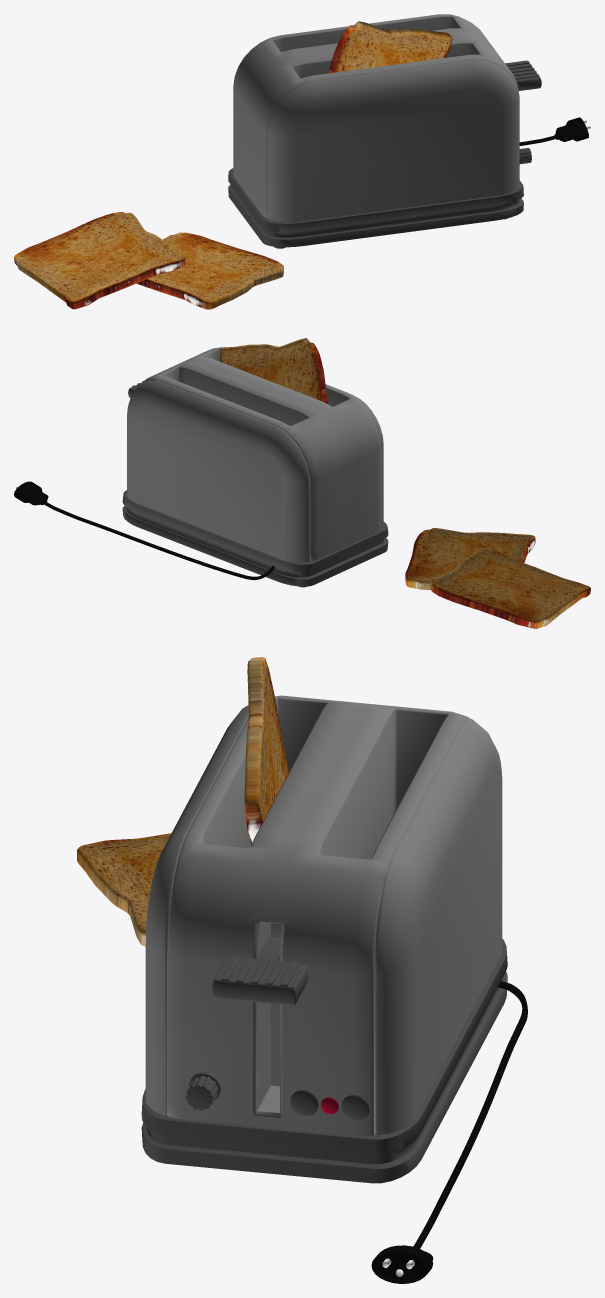
File: mytoaster.gltf
3 renders of one model, top to bottom at view 1: azimuth 30°, elevation 25°; view 2: azimuth 150°, elevation 25°; view 3: azimuth 270°, elevation 25°, orthographic. The views are drawn at different scales.
Visible parts, largest first — view 1: 8.0.201.0; view 2: 8.0.201.0; view 3: 8.0.201.0.
Part boxes in pixels (left/top/right/bottom): 8.0.201.0: left=14, top=14, right=590, bottom=309; 8.0.201.0: left=14, top=338, right=590, bottom=628; 8.0.201.0: left=77, top=657, right=527, bottom=1283.
Size of the model in its own units: 10.33 by 3.61 by 3.8.
11 materials, 2 textured.
